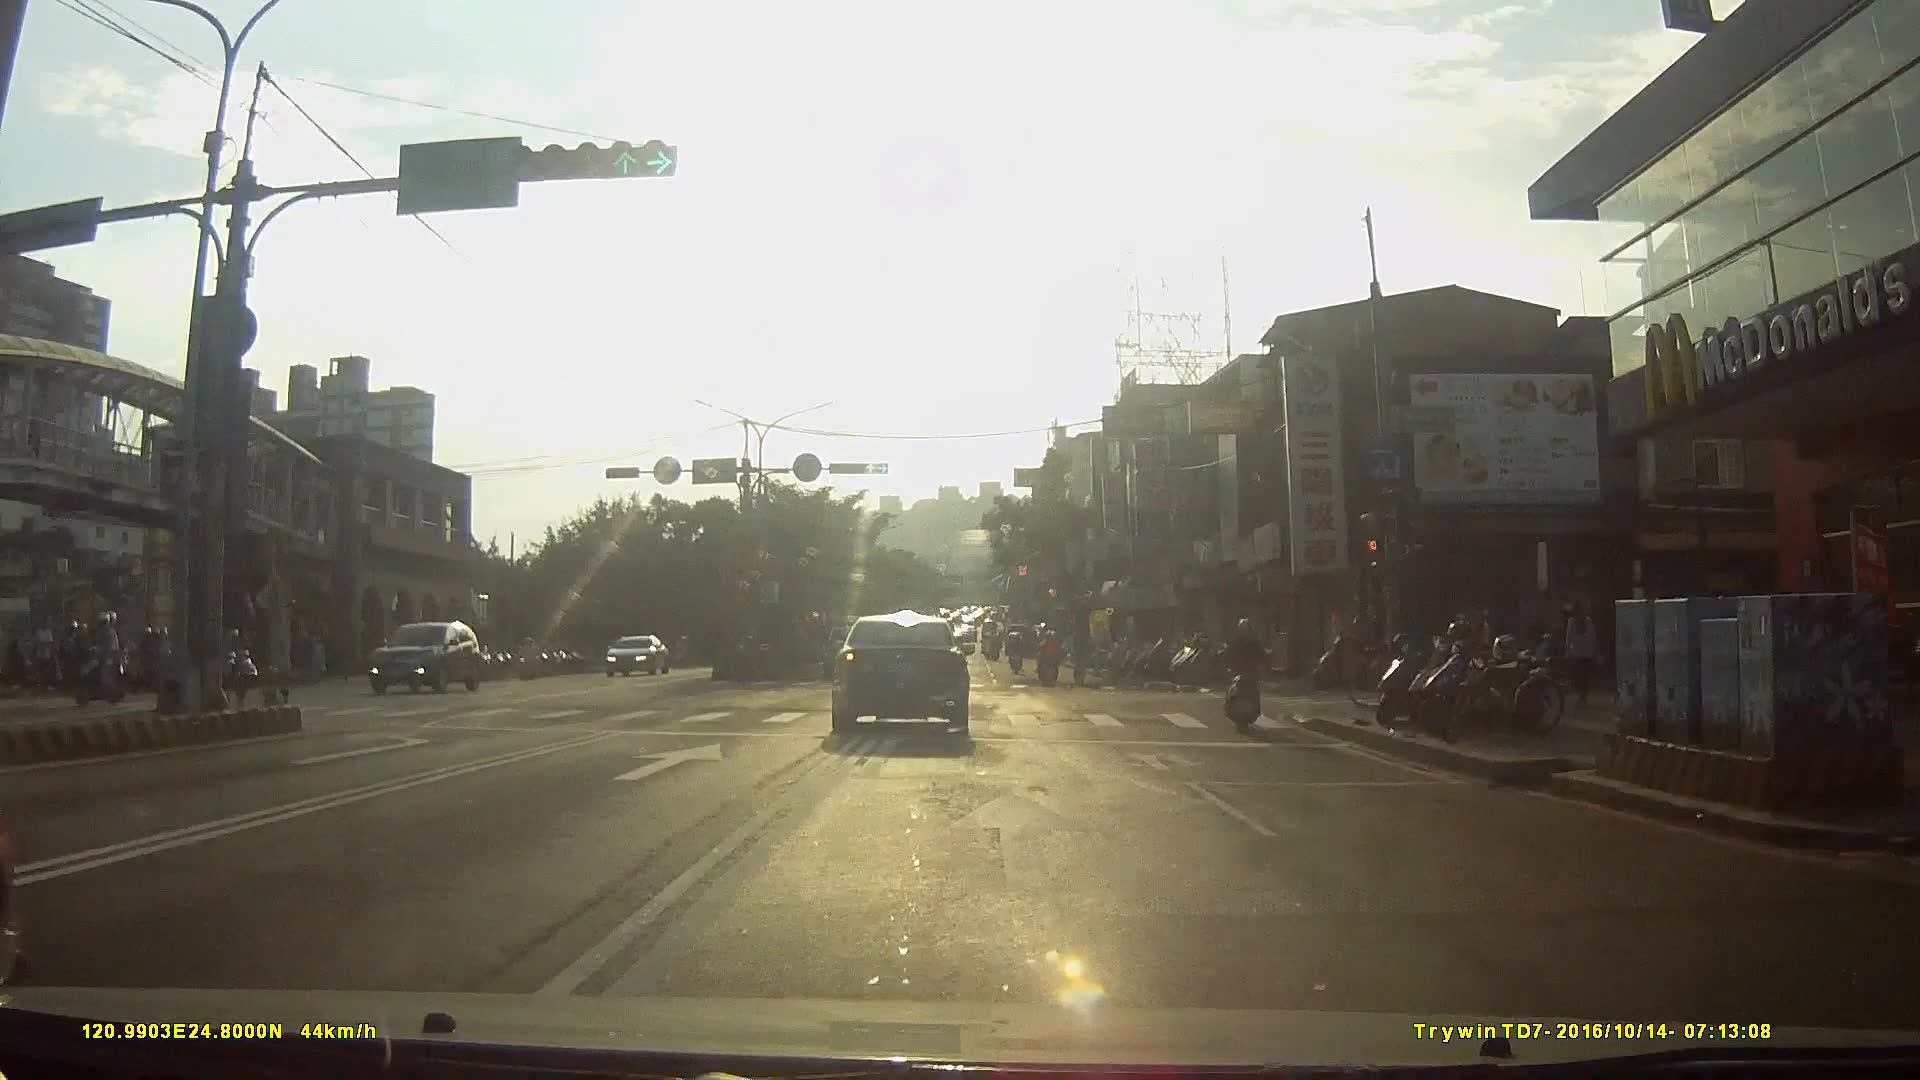pedestrian: (1561, 598, 1599, 705)
rider: (1224, 615, 1275, 731), (76, 607, 132, 706), (65, 625, 142, 694), (122, 629, 180, 698), (1035, 629, 1064, 689), (1005, 634, 1026, 679)
vehicle: (829, 608, 982, 746), (366, 619, 488, 692), (604, 632, 672, 682)
